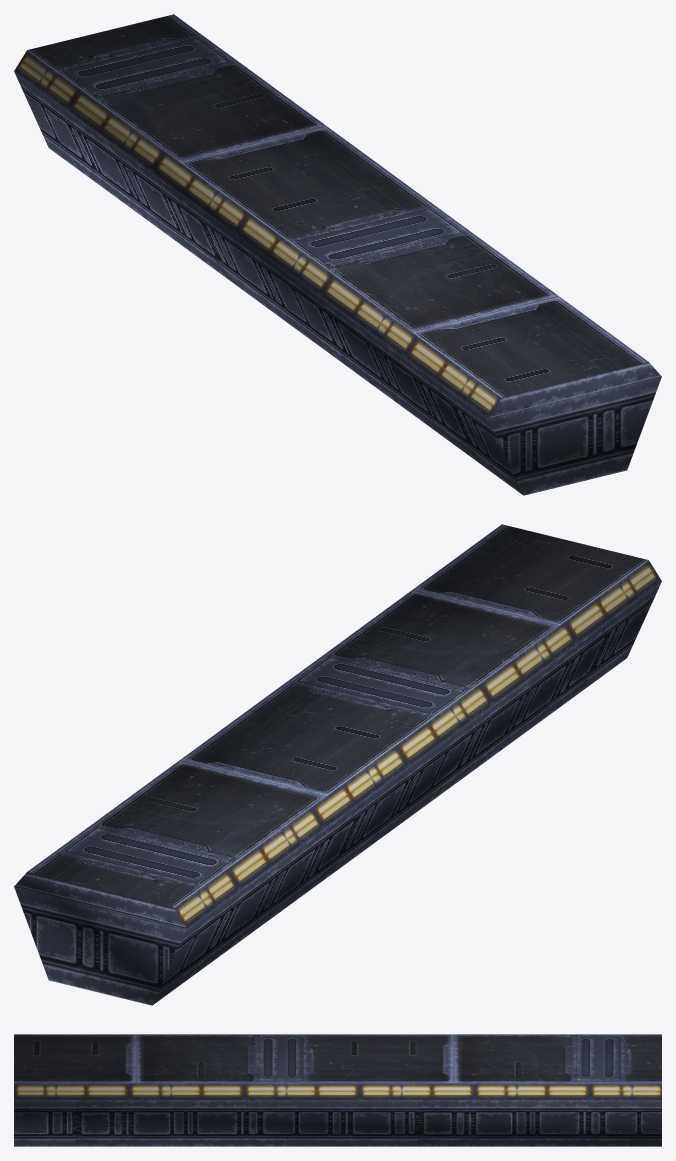
The model's file is Walkway_Str.fbx.
The picture shows the model from 3 angles, top to bottom: view 1: azimuth 30°, elevation 25°; view 2: azimuth 150°, elevation 25°; view 3: azimuth 270°, elevation 25°; orthographic projection. The views are drawn at different scales.
Visible parts, largest first — view 1: Cube; view 2: Cube; view 3: Cube.
Part boxes in pixels (bbox=[...]): Cube: bbox=[14, 14, 661, 495]; Cube: bbox=[14, 524, 661, 1005]; Cube: bbox=[14, 1034, 661, 1146].
Size of the model in its own units: 200 by 114 by 950.
